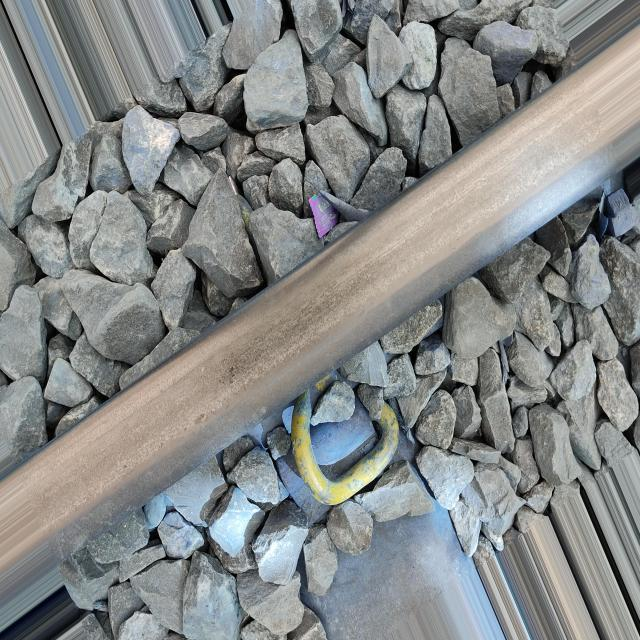Good Fasteners: (271, 381, 399, 525)
